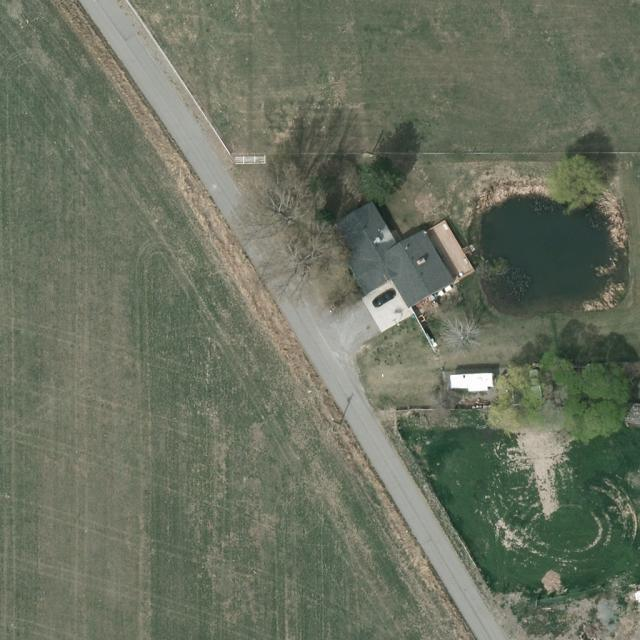vehicle: (372, 290, 392, 310)
